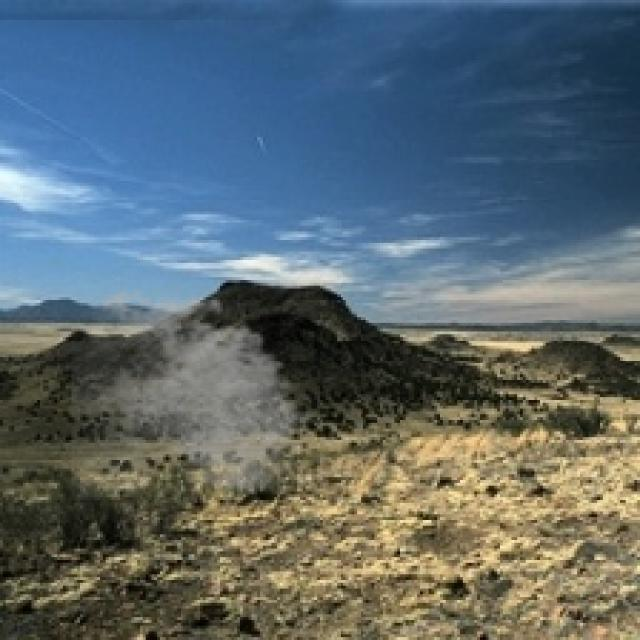smoke: (72, 283, 317, 500)
